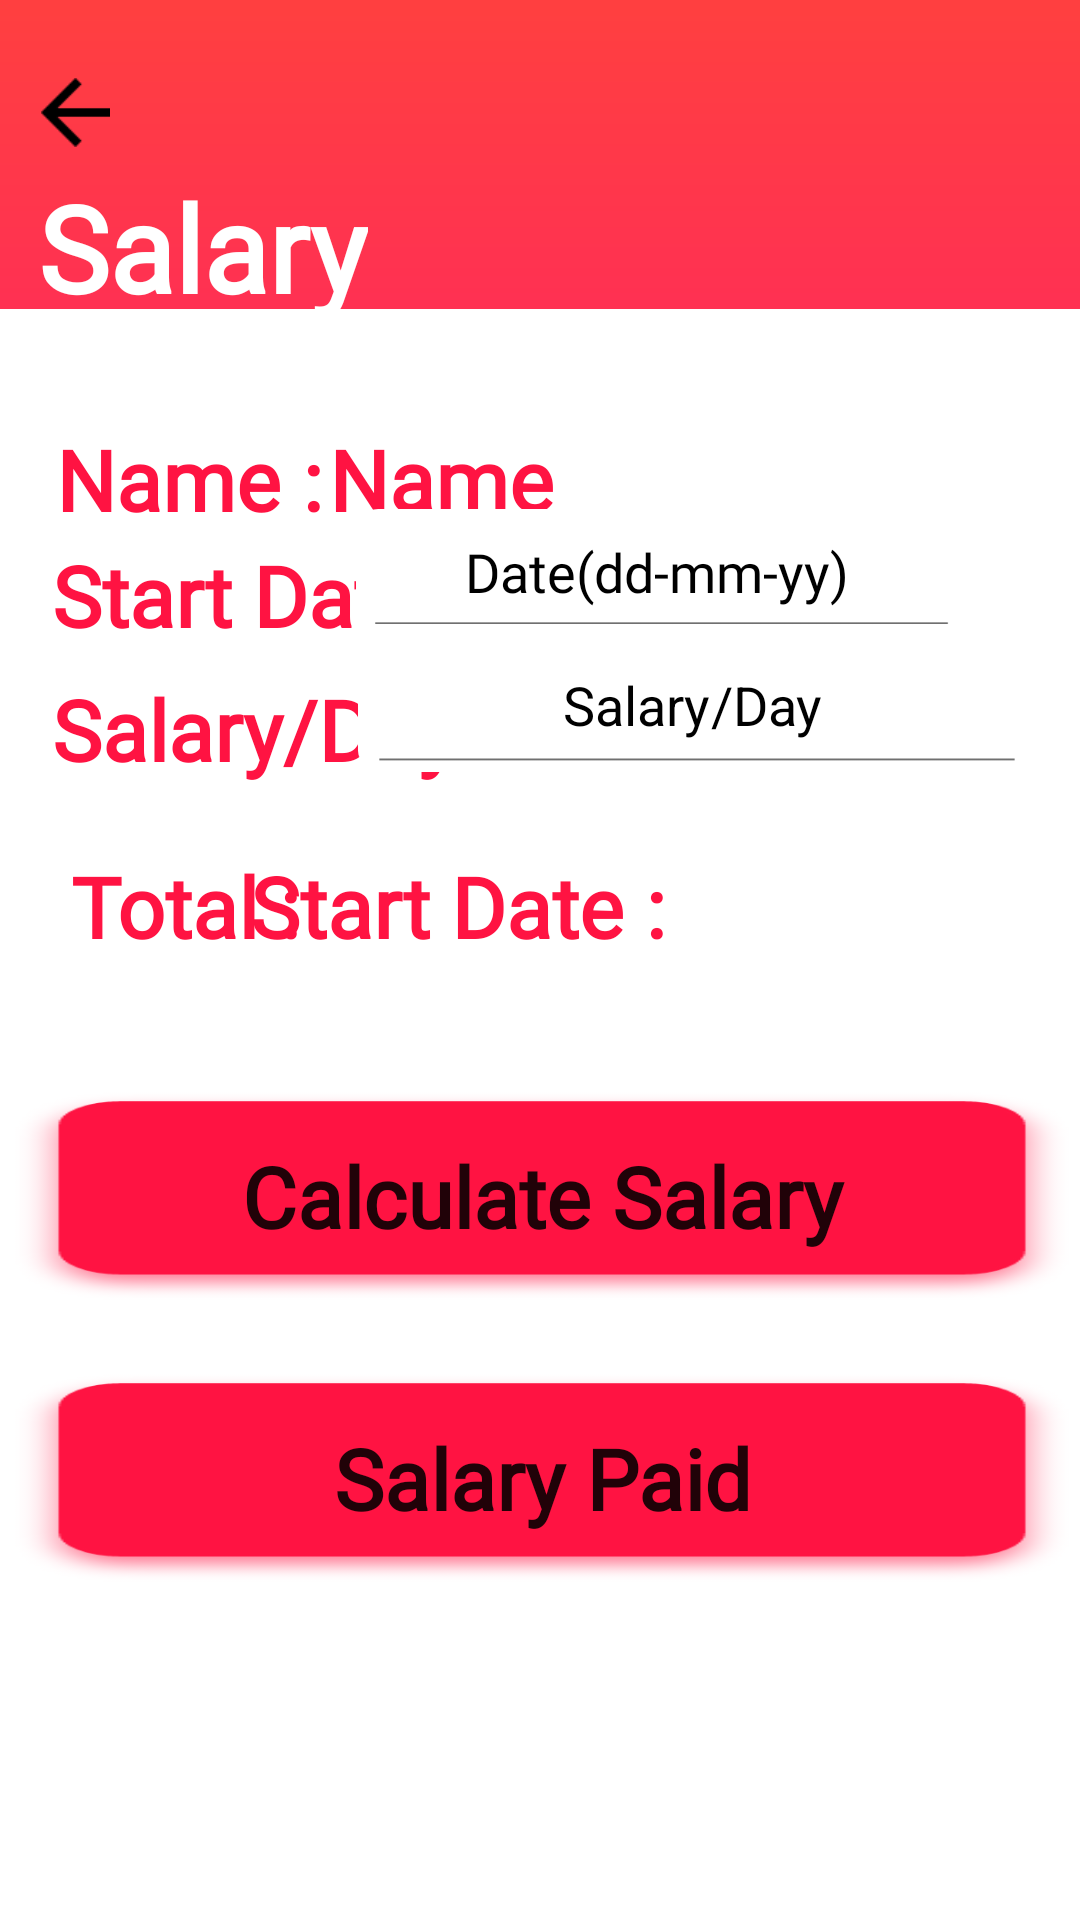

Icon bounding boxes for this 1080px x 1920px phone screenshot, format (x1, y1, x2, y2):
back: (41, 78, 110, 147)
